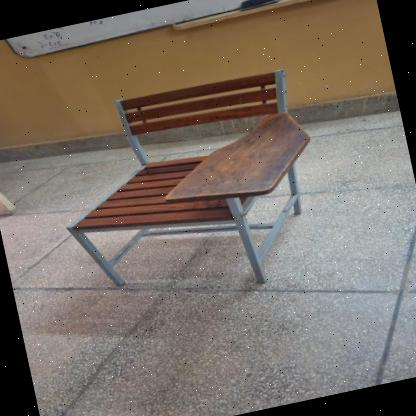chair: (35, 52, 338, 324)
